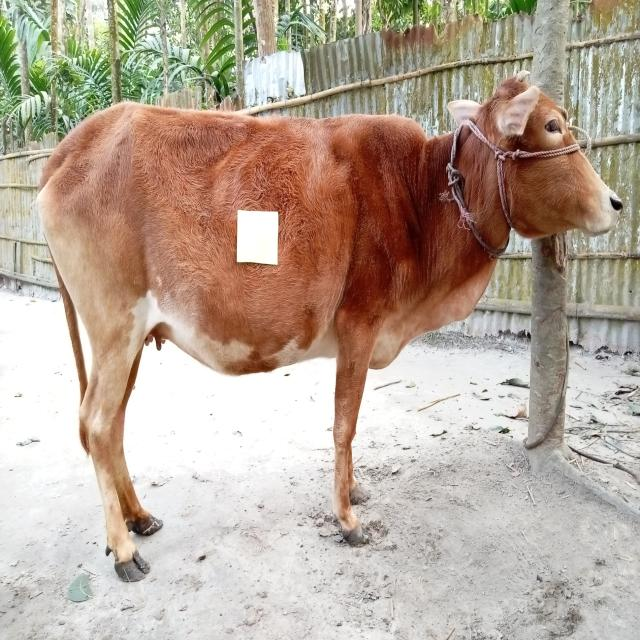badan_sapi: (70, 118, 374, 364)
sapi: (33, 72, 627, 584)
